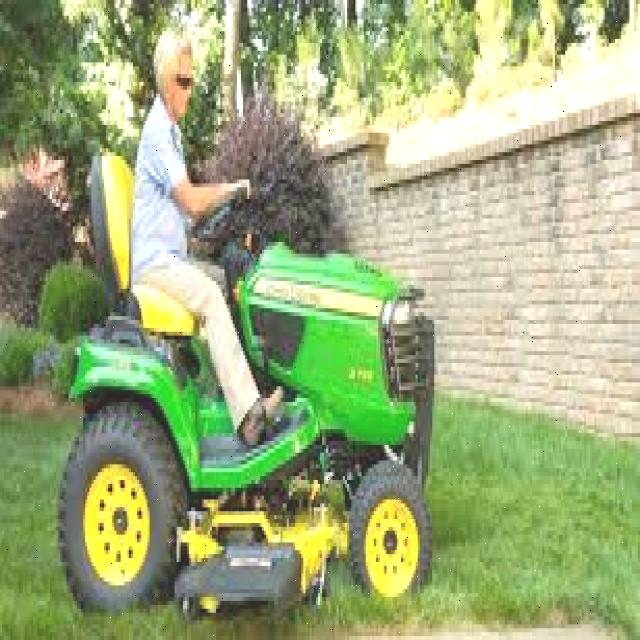Tratores - v5 YOLO V8L 2024-11-13: (61, 192, 435, 640)
